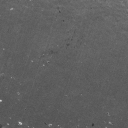corrosion: (18, 121, 23, 126)
